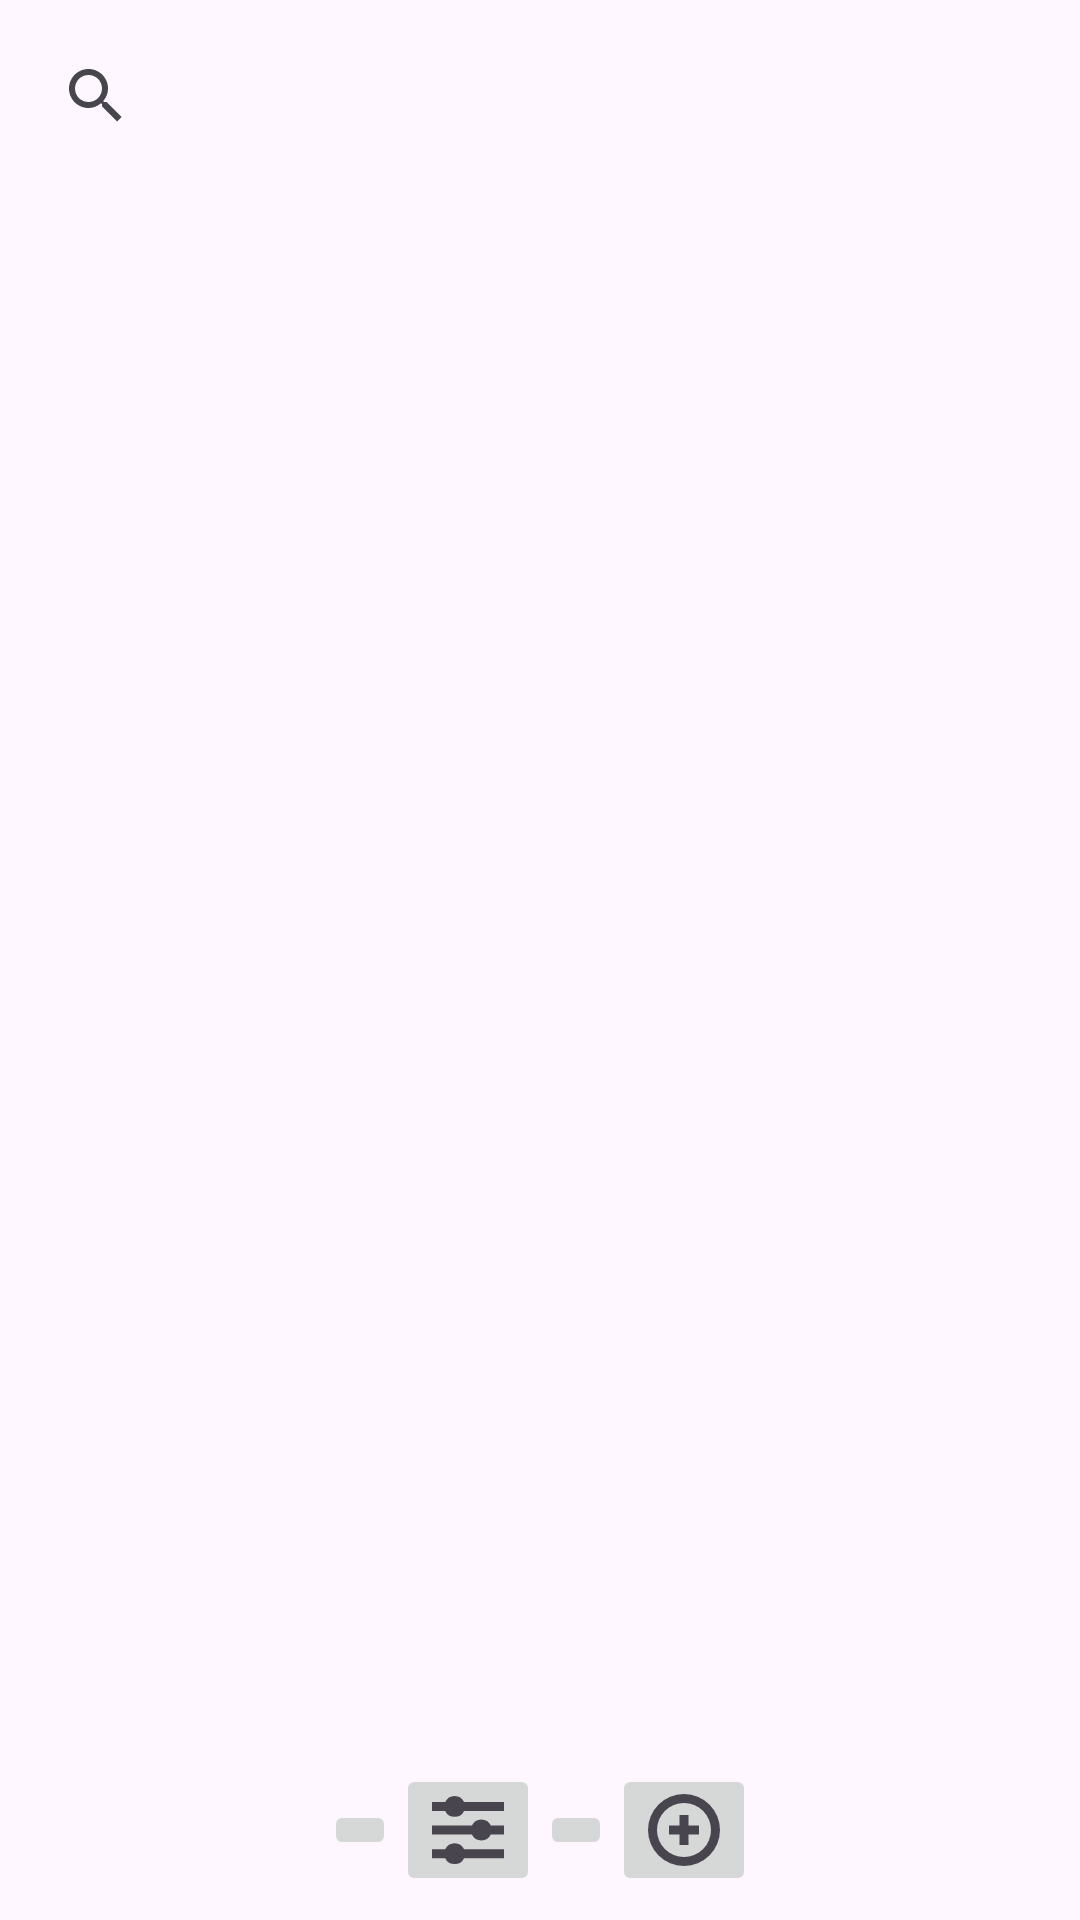

Icon bounding boxes for this 1080*1920 phone screenshot, format region(x1, y1, x2, y2):
Add Destination: region(624, 1782, 744, 1878)
Settings: region(408, 1782, 528, 1878)
